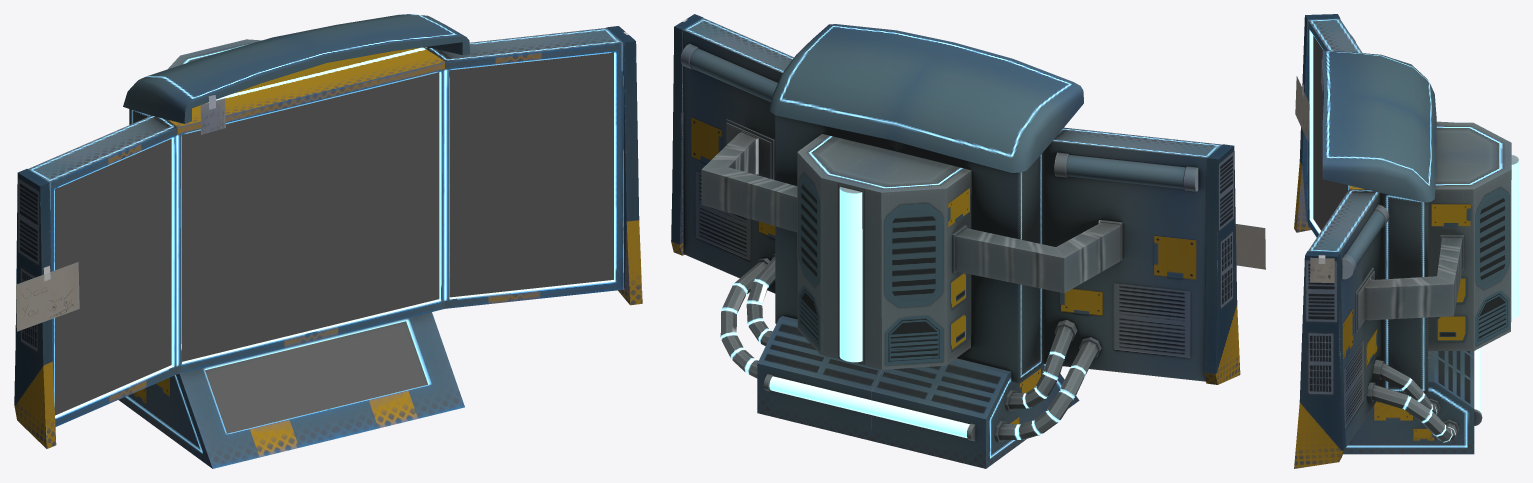
Rendered from Computador.fbx.
3 renders of one model, left to right at view 1: azimuth 30°, elevation 25°; view 2: azimuth 150°, elevation 25°; view 3: azimuth 270°, elevation 25°, orthographic. The views are drawn at different scales.
Visible parts, largest first — view 1: Computadora; view 2: Computadora; view 3: Computadora.
Boxes of the visible parts, x1,y1,x2,y2 form: Computadora: (14, 14, 642, 468); Computadora: (671, 14, 1265, 468); Computadora: (1294, 14, 1518, 468).
Bounding box in the file's own units: 657 × 373 × 246.
